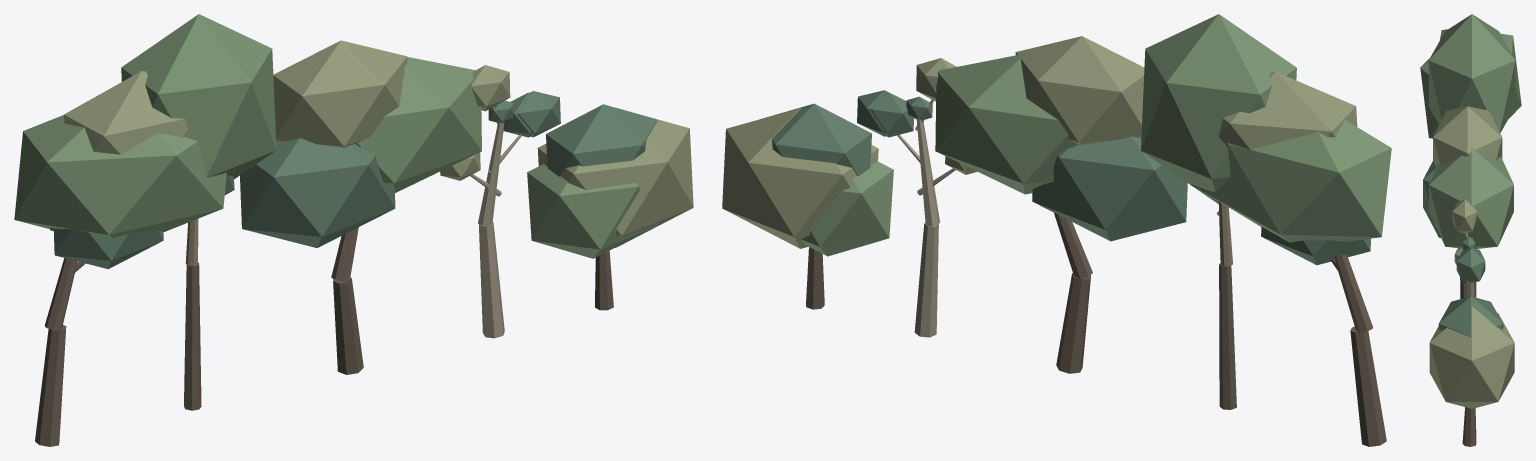
Rendered from dream_tree_kit_01.glb.
3 renders of one model, left to right at view 1: azimuth 30°, elevation 25°; view 2: azimuth 150°, elevation 25°; view 3: azimuth 270°, elevation 25°, orthographic. The views are drawn at different scales.
Visible parts, largest first — view 1: DRT_Windswept_01_Leaf_Mass_A, DRT_TallThin_01_Leaf_Top_A, DRT_Crooked_01_Leaf_Left, DRT_Crooked_01_Leaf_Top, DRT_Crooked_01_Leaf_Right, DRT_SmallBushy_01_Leaf_B, DRT_SmallBushy_01_Leaf_A, DRT_Windswept_01_Leaf_Mass_B, DRT_SmallBushy_01_Leaf_C, DRT_Windswept_01_Leaf_Mass_C, DRT_Windswept_01_Trunk_A, DRT_TallThin_01_Trunk_A (+8 smaller); view 2: DRT_TallThin_01_Leaf_Top_A, DRT_Windswept_01_Leaf_Mass_A, DRT_Crooked_01_Leaf_Right, DRT_Crooked_01_Leaf_Left, DRT_SmallBushy_01_Leaf_B, DRT_Crooked_01_Leaf_Top, DRT_Windswept_01_Leaf_Mass_B, DRT_SmallBushy_01_Leaf_A, DRT_SmallBushy_01_Leaf_C, DRT_Windswept_01_Trunk_A, DRT_Crooked_01_Trunk_A, DRT_TallThin_01_Trunk_A (+10 smaller); view 3: DRT_TallThin_01_Leaf_Top_A, DRT_SmallBushy_01_Leaf_B, DRT_Crooked_01_Leaf_Right, DRT_Crooked_01_Leaf_Top, DRT_SmallBushy_01_Leaf_C, DRT_Windswept_01_Leaf_Mass_A, DRT_DeadSparse_01_Canopy_Remnant_Right, DRT_DeadSparse_01_Canopy_Remnant_High, DRT_SmallBushy_01_Trunk, DRT_Crooked_01_Leaf_Left, DRT_DeadSparse_01_P03_Remnant_Mid, DRT_DeadSparse_01_Trunk_B.
Part boxes in pixels (bbox=[...]): DRT_Windswept_01_Leaf_Mass_A: bbox=[14, 115, 226, 238]; DRT_TallThin_01_Leaf_Top_A: bbox=[121, 14, 276, 179]; DRT_Crooked_01_Leaf_Left: bbox=[240, 138, 395, 247]; DRT_Crooked_01_Leaf_Top: bbox=[273, 40, 407, 147]; DRT_Crooked_01_Leaf_Right: bbox=[355, 57, 481, 192]; DRT_SmallBushy_01_Leaf_B: bbox=[537, 107, 693, 247]; DRT_SmallBushy_01_Leaf_A: bbox=[527, 164, 658, 258]; DRT_Windswept_01_Leaf_Mass_B: bbox=[64, 71, 188, 154]; DRT_SmallBushy_01_Leaf_C: bbox=[546, 104, 657, 176]; DRT_Windswept_01_Leaf_Mass_C: bbox=[53, 228, 163, 269]; DRT_Windswept_01_Trunk_A: bbox=[35, 325, 66, 446]; DRT_TallThin_01_Trunk_A: bbox=[184, 262, 201, 410]; DRT_TallThin_01_Leaf_Top_A: bbox=[1141, 14, 1296, 204]; DRT_Windswept_01_Leaf_Mass_A: bbox=[1201, 120, 1391, 242]; DRT_Crooked_01_Leaf_Right: bbox=[935, 53, 1078, 194]; DRT_Crooked_01_Leaf_Left: bbox=[1032, 136, 1187, 241]; DRT_SmallBushy_01_Leaf_B: bbox=[722, 108, 878, 248]; DRT_Crooked_01_Leaf_Top: bbox=[1015, 36, 1144, 144]; DRT_Windswept_01_Leaf_Mass_B: bbox=[1218, 71, 1357, 149]; DRT_SmallBushy_01_Leaf_A: bbox=[801, 161, 893, 256]; DRT_SmallBushy_01_Leaf_C: bbox=[767, 103, 871, 176]; DRT_Windswept_01_Trunk_A: bbox=[1350, 326, 1386, 446]; DRT_Crooked_01_Trunk_A: bbox=[1056, 273, 1090, 373]; DRT_TallThin_01_Trunk_A: bbox=[1219, 263, 1236, 409]; DRT_TallThin_01_Leaf_Top_A: bbox=[1428, 14, 1515, 132]; DRT_SmallBushy_01_Leaf_B: bbox=[1429, 306, 1514, 408]; DRT_Crooked_01_Leaf_Right: bbox=[1429, 147, 1513, 248]; DRT_Crooked_01_Leaf_Top: bbox=[1433, 106, 1502, 167]; DRT_SmallBushy_01_Leaf_C: bbox=[1438, 296, 1503, 336]; DRT_Windswept_01_Leaf_Mass_A: bbox=[1420, 33, 1521, 138]; DRT_DeadSparse_01_Canopy_Remnant_Right: bbox=[1456, 249, 1485, 282]; DRT_DeadSparse_01_Canopy_Remnant_High: bbox=[1452, 200, 1477, 233]; DRT_SmallBushy_01_Trunk: bbox=[1462, 407, 1476, 446]; DRT_Crooked_01_Leaf_Left: bbox=[1423, 161, 1440, 237]; DRT_DeadSparse_01_P03_Remnant_Mid: bbox=[1462, 236, 1475, 249]; DRT_DeadSparse_01_Trunk_B: bbox=[1466, 282, 1474, 297].
Size of the model in its own units: 10.17 by 5.72 by 1.84.
